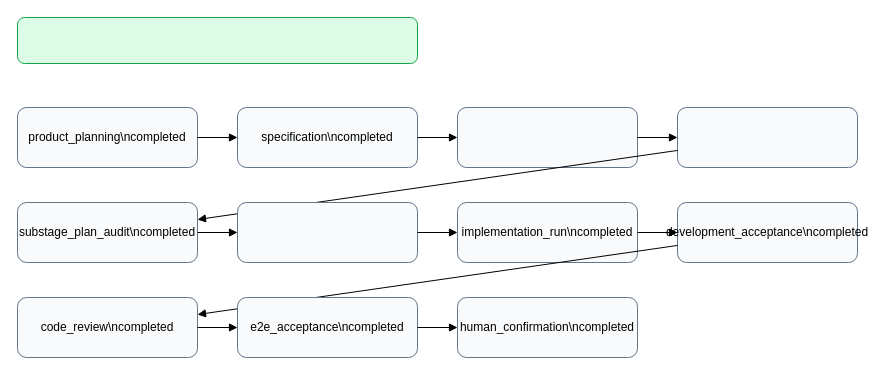
Some shapes in this 886 by 375 pixel diagram are drawn without their labels. Each missing label, with the centre of its shape:
"architecture_review\ncompleted" belongs at [767,137].
"project_blueprint\ncompleted" belongs at [547,137].
"substage_architecture_review\ncompleted" belongs at [327,232].
"V4.5 Engineering Status" belongs at [217,40].
